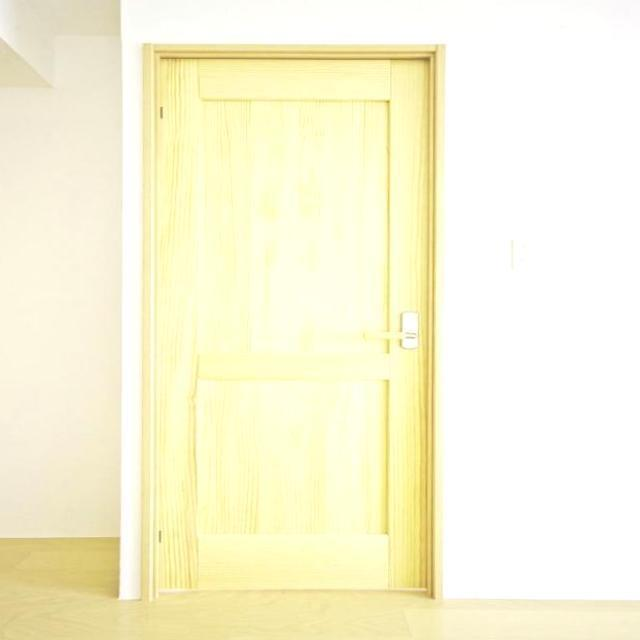door: (143, 45, 437, 599)
